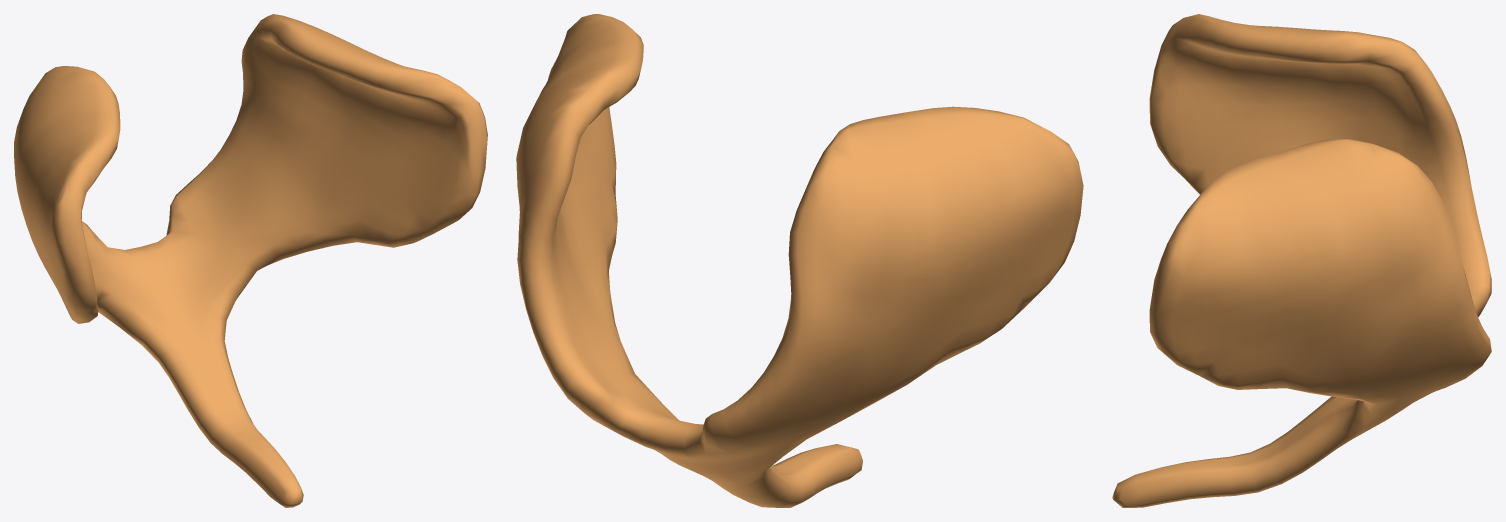
3 renders of one model, left to right at view 1: azimuth 30°, elevation 25°; view 2: azimuth 150°, elevation 25°; view 3: azimuth 270°, elevation 25°, orthographic. The views are drawn at different scales.
Parts seen in each view (by area): view 1: 甲状腺; view 2: 甲状腺; view 3: 甲状腺.
Boxes of the visible parts, x1,y1,x2,y2 form: 甲状腺: (14, 14, 487, 507); 甲状腺: (516, 14, 1083, 507); 甲状腺: (1112, 14, 1491, 507).
Bounding box in the file's own units: 0.0716 × 0.0612 × 0.0503.
